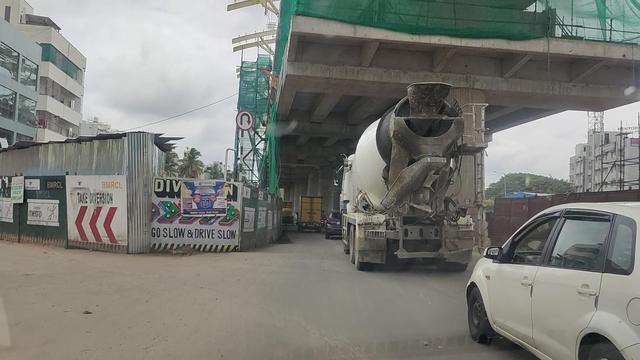HMV: (341, 81, 470, 265), (299, 195, 323, 230)
LMV: (479, 198, 640, 360)
RoadDamages: (293, 316, 363, 360)
UnsurfacedRoad: (213, 249, 349, 266)
